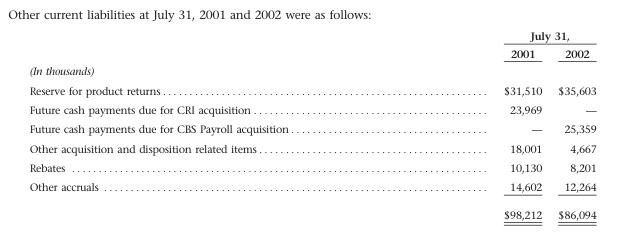table: (28, 29, 595, 220)
table column: (28, 29, 494, 220), (494, 29, 549, 220), (549, 29, 595, 220)
table column header: (28, 29, 595, 61)
table projected row header: (28, 61, 595, 80)
table row: (28, 177, 595, 200), (28, 118, 595, 138), (28, 157, 595, 177), (28, 200, 595, 220), (28, 61, 595, 80), (28, 80, 595, 99), (28, 99, 595, 118), (28, 138, 595, 157), (28, 44, 595, 61), (28, 29, 595, 44)
table spanning cell: (494, 29, 595, 44)
